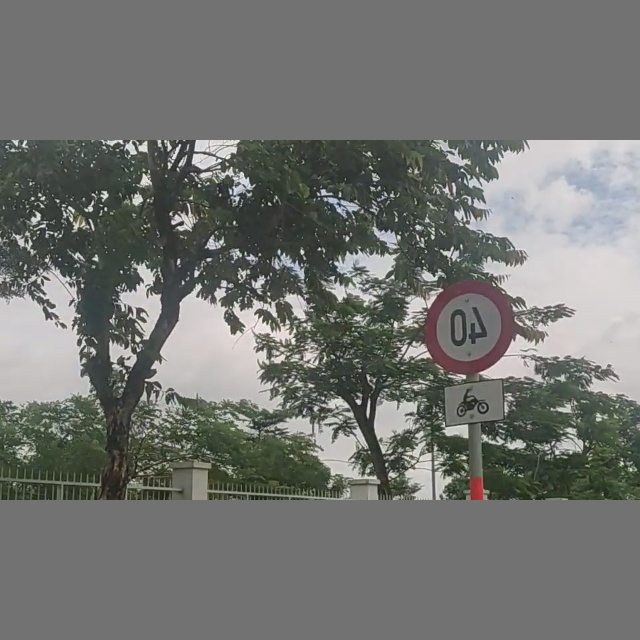P.127*40: (421, 276, 515, 379)
S.505a*Xe may: (437, 374, 509, 431)
